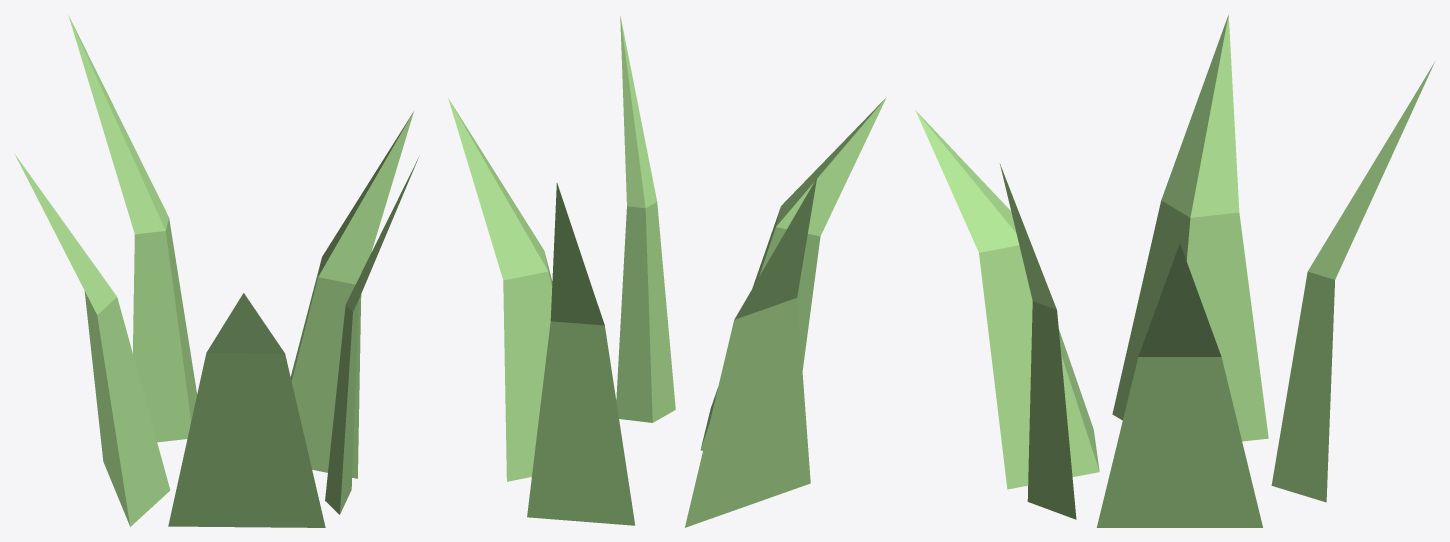
Rendered from grass_01.fbx.
The picture shows the model from 3 angles, left to right: view 1: azimuth 30°, elevation 25°; view 2: azimuth 150°, elevation 25°; view 3: azimuth 270°, elevation 25°; orthographic projection. The views are drawn at different scales.
Parts seen in each view (by area): view 1: Cone.004; view 2: Cone.004; view 3: Cone.004.
Part boxes in pixels (box(x1,y1,x2,y2)): Cone.004: box(15, 15, 418, 527); Cone.004: box(448, 16, 886, 527); Cone.004: box(915, 15, 1434, 527).
Bounding box in the file's own units: 200 × 192 × 226.
